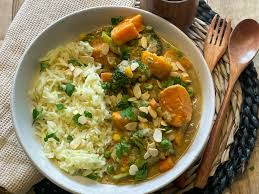rice: (34, 20, 194, 172)
